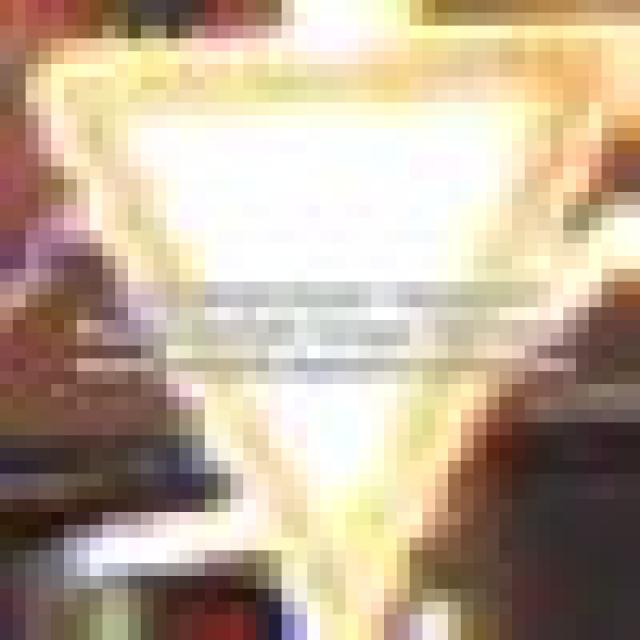GIVE_WAY: (13, 26, 627, 627)
